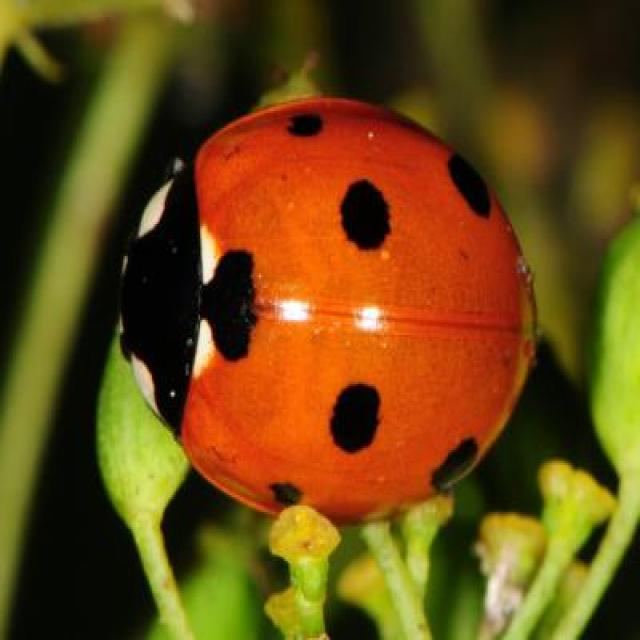body: (125, 96, 537, 524)
insect: (124, 95, 539, 526)
wings: (189, 99, 536, 524)
